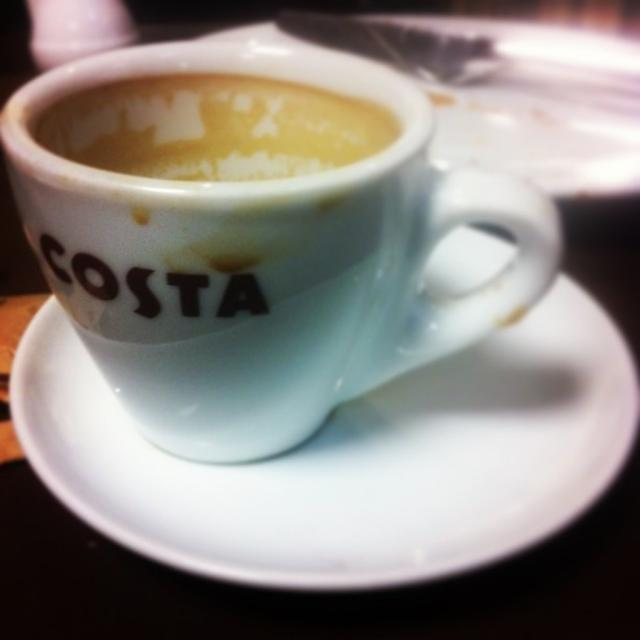Coffee: (0, 31, 567, 446)
Tea: (34, 75, 396, 180)
